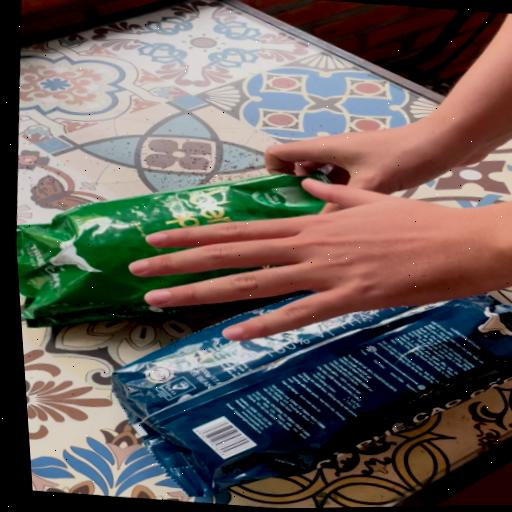cafe_hat: (113, 295, 512, 497)
cafe_xay: (16, 175, 325, 328)
